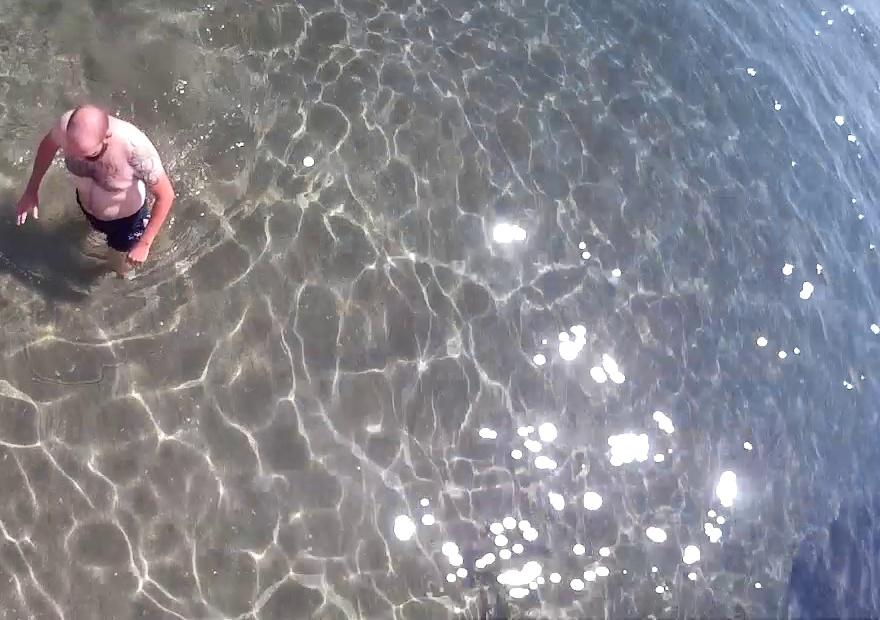human: (16, 92, 182, 278)
